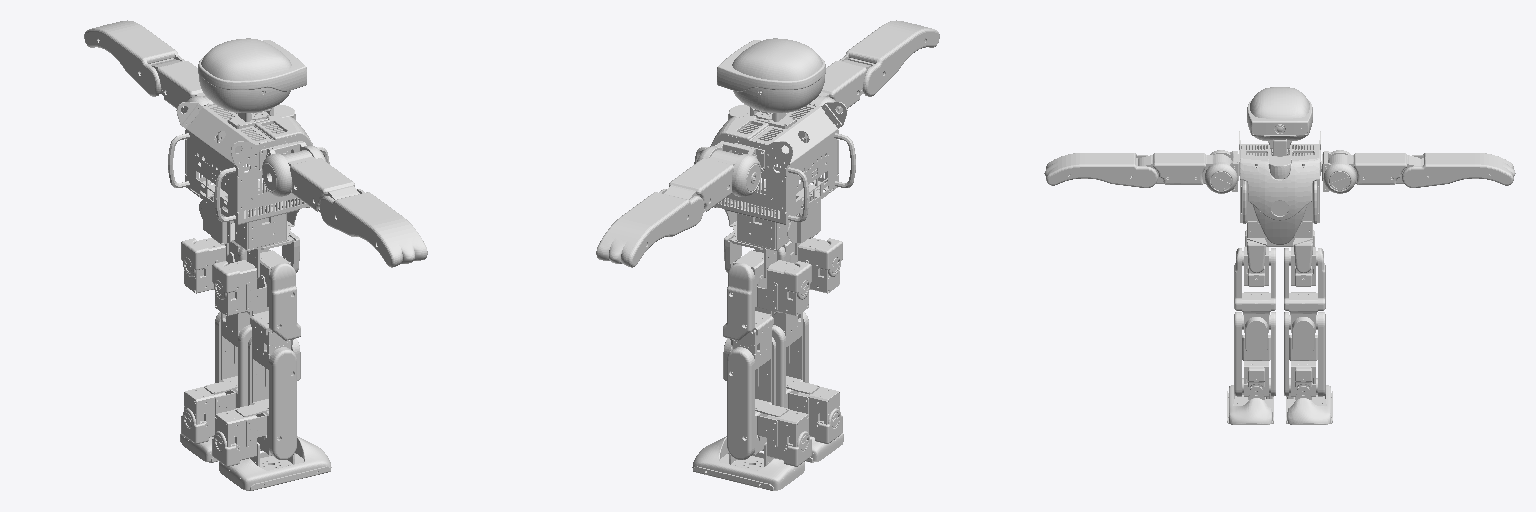
URDF robot description (muriqui):
<?xml version="1.0" ?>
<!-- =================================================================================== -->
<!-- |    This document was autogenerated by xacro from muriqui.urdf.xacro             | -->
<!-- |    EDITING THIS FILE BY HAND IS NOT RECOMMENDED                                 | -->
<!-- =================================================================================== -->
<robot name="muriqui">
  <!-- <xacro:include filename="$(find muriqui_description)/urdf/ros2_control/muriqui_right_arm.ros2_control.xacro"/>
  <xacro:include filename="$(find muriqui_description)/urdf/ros2_control/muriqui_right_leg.ros2_control.xacro"/>
  <xacro:include filename="$(find muriqui_description)/urdf/ros2_control/muriqui_left_arm.ros2_control.xacro"/>
  <xacro:include filename="$(find muriqui_description)/urdf/ros2_control/muriqui_left_leg.ros2_control.xacro"/>
  <xacro:include filename="$(find muriqui_description)/urdf/ros2_control/muriqui_neck.ros2_control.xacro"/>
  <xacro:include filename="$(find muriqui_description)/urdf/ros2_control/muriqui.gazebo_ros2_control.xacro"/> -->
  <material name="white">
    <color rgba="0.9 0.9 0.9 1.0"/>
  </material>
  <material name="black">
    <color rgba="0.1 0.1 0.1 1"/>
  </material>
  <material name="red">
    <color rgba="0.8984375 0.0 0.0703125 1"/>
  </material>
  <material name="light_red">
    <color rgba="0.9 0.5 0.5 1"/>
  </material>
  <material name="green">
    <color rgba="0.0 0.9 0.0 1"/>
  </material>
  <material name="light_green">
    <color rgba="0.5 0.9 0.5 1"/>
  </material>
  <material name="blue">
    <color rgba="0.0 0.0 0.9 1"/>
  </material>
  <material name="light_blue">
    <color rgba="0.5 0.5 0.9 1"/>
  </material>
  <material name="yellow">
    <color rgba="1.0 0.9 0.0 1"/>
  </material>
  <material name="cyan">
    <color rgba="0.0 0.5 0.9 1"/>
  </material>
  <material name="purple">
    <color rgba="0.9 0.0 0.9 1"/>
  </material>
  <link name="Body">
    <visual>
      <geometry>
        <mesh filename="package://muriqui_description/meshes/visual/Body.stl" scale="1.0 1.0 1.0"/>
      </geometry>
      <material name="white"/>
    </visual>
    <collision>
      <origin rpy="0 0 0" xyz="-0.01 0.0 0.08"/>
      <geometry>
        <box size="0.17 0.14 0.16"/>
      </geometry>
    </collision>
    <inertial>
      <mass value="1.625504"/>
      <origin rpy="0 0 0" xyz="-9.015e-03 0.365e-03 75.594e-03"/>
      <inertia ixx="6918802.193e-09" ixy="7360.263e-09" ixz="-135071.914e-09" iyy="6123383.515e-09" iyz="9644.33e-09" izz="5209478.932e-09"/>
    </inertial>
  </link>
  <joint name="neck_joint_1" type="revolute">
    <parent link="Body"/>
    <child link="Neck1"/>
    <origin rpy="0 0 0" xyz="0 0 0.16025"/>
    <limit effort="3.0" lower="-2.792526803190927" upper="2.792526803190927" velocity="4.81712"/>
    <axis xyz="0 0 1"/>
    <dynamics damping="1.0e-6" friction="0.8"/>
  </joint>
  <link name="Neck1">
    <visual>
      <geometry>
        <mesh filename="package://muriqui_description/meshes/visual/Neck1.stl" scale="1.0 1.0 1.0"/>
      </geometry>
      <material name="white"/>
    </visual>
    <collision>
      <origin rpy="0 0 0" xyz="0.0 0.0 0.025"/>
      <geometry>
        <box size="0.04 0.04 0.065"/>
      </geometry>
    </collision>
    <inertial>
      <mass value="0.102279"/>
      <origin rpy="0 0 0" xyz="0.016e-03 -0.278e-03 29.456e-03"/>
      <inertia ixx="35933.534e-09" ixy="-0.465e-09" ixz="51.624e-09" iyy="36549.566e-09" iyz="92.528e-09" izz="19716.616e-09"/>
    </inertial>
  </link>
  <joint name="neck_joint_2" type="revolute">
    <parent link="Neck1"/>
    <child link="Head"/>
    <origin rpy="0 0 0" xyz="0 0 0.022"/>
    <limit effort="3.0" lower="-0.8726646259971648" upper="0.5235987755982988" velocity="4.81712"/>
    <axis xyz="0 -1 0"/>
    <dynamics damping="1.0e-6" friction="0.8"/>
  </joint>
  <link name="Head">
    <visual>
      <origin rpy="0 0 0" xyz="0.0 0.0 0.0"/>
      <geometry>
        <mesh filename="package://muriqui_description/meshes/visual/Head.stl" scale="1.0 1.0 1.0"/>
      </geometry>
      <material name="white"/>
    </visual>
    <collision>
      <origin rpy="0 0 0" xyz="-0.01 0.0 0.04"/>
      <geometry>
        <box size="0.12 0.11 0.07"/>
      </geometry>
    </collision>
    <inertial>
      <mass value="0.193963"/>
      <origin rpy="0 0 0" xyz="-5.895e-03 0.909e-03 41.092e-03"/>
      <inertia ixx="279832.497e-09" ixy="-4847.055e-09" ixz="-2963.9e-09" iyy="272460.207e-09" iyz="38.305e-09" izz="377440.707e-09"/>
    </inertial>
  </link>
  <joint name="r_arm_joint1" type="revolute">
    <parent link="Body"/>
    <child link="Arm_R_Link1"/>
    <origin rpy="0 0 0" xyz="0 -0.072 0.132"/>
    <limit effort="3.0" lower="-2.792526803190927" upper="2.792526803190927" velocity="4.81712"/>
    <axis xyz="0 -1 0"/>
    <dynamics damping="1.0e-6" friction="0.8"/>
  </joint>
  <link name="Arm_R_Link1">
    <visual>
      <origin rpy="0 0 0" xyz="0.0 0.0 0.0"/>
      <geometry>
        <mesh filename="package://muriqui_description/meshes/visual/Arm_R_Link1.stl" scale="1.0 1.0 1.0"/>
      </geometry>
      <material name="white"/>
    </visual>
    <collision>
      <origin rpy="0 1.570795 0" xyz="0.0 -0.026 -0.01"/>
      <geometry>
        <cylinder length="0.075" radius="0.03"/>
      </geometry>
    </collision>
    <inertial>
      <mass value="0.065122"/>
      <origin rpy="0 0 0" xyz="-0.298e-03 -17.94e-03 -9.028e-03"/>
      <inertia ixx="30034.433e-09" ixy="-282.277e-09" ixz="-63.454e-09" iyy="50409.932e-09" iyz="-1569.783e-09" izz="53328.994e-09"/>
    </inertial>
  </link>
  <joint name="r_arm_joint2" type="revolute">
    <parent link="Arm_R_Link1"/>
    <child link="Arm_R_Link2"/>
    <origin rpy="0 0 0" xyz="0 -0.031 -0.0105"/>
    <limit effort="3.0" lower="-1.3962634015954636" upper="1.7453292519943295" velocity="4.81712"/>
    <axis xyz="1 0 0"/>
    <dynamics damping="1.0e-6" friction="0.8"/>
  </joint>
  <link name="Arm_R_Link2">
    <visual>
      <origin rpy="0 0 0" xyz="0.0 0.0 0.0"/>
      <geometry>
        <mesh filename="package://muriqui_description/meshes/visual/Arm_R_Link2.stl" scale="1.0 1.0 1.0"/>
      </geometry>
      <material name="white"/>
    </visual>
    <collision>
      <origin rpy="0 0 0" xyz="0.0 -0.07 0.005"/>
      <geometry>
        <box size="0.045 0.14 0.04"/>
      </geometry>
    </collision>
    <inertial>
      <mass value="0.258916"/>
      <origin rpy="0 0 0" xyz="0.221e-03 -60.857e-03 3.126e-03"/>
      <inertia ixx="622556.932e-09" ixy="84.223e-09" ixz="173.328e-09" iyy="68237.076e-09" iyz="-976.913e-09" izz="634784.646e-09"/>
    </inertial>
  </link>
  <joint name="r_arm_joint3" type="revolute">
    <parent link="Arm_R_Link2"/>
    <child link="Arm_R_Link3"/>
    <origin rpy="0 0 0" xyz="0 -0.1245 0"/>
    <limit effort="3.0" lower="-0.8726646259971648" upper="2.0943951023931953" velocity="4.81712"/>
    <axis xyz="1 0 0"/>
    <dynamics damping="1.0e-6" friction="0.8"/>
  </joint>
  <link name="Arm_R_Link3">
    <visual>
      <origin rpy="0 0 0" xyz="0.0 0.0 0.0"/>
      <geometry>
        <mesh filename="package://muriqui_description/meshes/visual/Arm_R_Link3.stl" scale="1.0 1.0 1.0"/>
      </geometry>
      <material name="white"/>
    </visual>
    <collision>
      <origin rpy="0 0 0" xyz="0.0 -0.095 0.01"/>
      <geometry>
        <box size="0.055 0.15 0.02"/>
      </geometry>
    </collision>
    <inertial>
      <mass value="0.141676"/>
      <origin rpy="0 0 0" xyz="0e-03 -81.732e-03 8.708e-03"/>
      <inertia ixx="368789.704e-09" ixy="-1.008e-09" ixz="-2.435e-09" iyy="59577.36e-09" iyz="-3488.399e-09" izz="402707.85e-09"/>
    </inertial>
  </link>
  <joint name="l_arm_joint1" type="revolute">
    <parent link="Body"/>
    <child link="Arm_L_Link1"/>
    <origin rpy="0 0 0" xyz="0 0.072 0.132"/>
    <limit effort="3.0" lower="-2.792526803190927" upper="2.792526803190927" velocity="4.81712"/>
    <axis xyz="0 1 0"/>
    <dynamics damping="1.0e-6" friction="0.8"/>
  </joint>
  <link name="Arm_L_Link1">
    <visual>
      <origin rpy="0 0 0" xyz="0.0 0.0 0.0"/>
      <geometry>
        <mesh filename="package://muriqui_description/meshes/visual/Arm_L_Link1.stl" scale="1.0 1.0 1.0"/>
      </geometry>
      <material name="white"/>
    </visual>
    <collision>
      <origin rpy="0 1.570795 0" xyz="0.0 0.026 -0.01"/>
      <geometry>
        <cylinder length="0.075" radius="0.03"/>
      </geometry>
    </collision>
    <inertial>
      <mass value="0.065122"/>
      <origin rpy="0 0 0" xyz="-0.33e-03 19.939e-03 -9.027e-03"/>
      <inertia ixx="30033.798e-09" ixy="293.152e-09" ixz="-68.135e-09" iyy="50512.623e-09" iyz="1568.854e-09" izz="53431.647e-09"/>
    </inertial>
  </link>
  <joint name="l_arm_joint2" type="revolute">
    <parent link="Arm_L_Link1"/>
    <child link="Arm_L_Link2"/>
    <origin rpy="0 0 0" xyz="0 0.031 -0.0105"/>
    <limit effort="3.0" lower="-1.7453292519943295" upper="1.3962634015954636" velocity="4.81712"/>
    <axis xyz="1 0 0"/>
    <dynamics damping="1.0e-6" friction="0.8"/>
  </joint>
  <link name="Arm_L_Link2">
    <visual>
      <origin rpy="0 0 0" xyz="0.0 0.0 0.0"/>
      <geometry>
        <mesh filename="package://muriqui_description/meshes/visual/Arm_L_Link2.stl" scale="1.0 1.0 1.0"/>
      </geometry>
      <material name="white"/>
    </visual>
    <collision>
      <origin rpy="0 0 0" xyz="0.0 0.07 0.005"/>
      <geometry>
        <box size="0.045 0.14 0.04"/>
      </geometry>
    </collision>
    <inertial>
      <mass value="0.258916"/>
      <origin rpy="0 0 0" xyz="0.218e-03 60.857e-03 3.126e-03"/>
      <inertia ixx="622556.932e-09" ixy="-73.955e-09" ixz="181.638e-09" iyy="68237.355e-09" iyz="976.913e-09" izz="634784.925e-09"/>
    </inertial>
  </link>
  <joint name="l_arm_joint3" type="revolute">
    <parent link="Arm_L_Link2"/>
    <child link="Arm_L_Link3"/>
    <origin rpy="0 0 0" xyz="0 0.1245 0"/>
    <limit effort="3.0" lower="-2.0943951023931953" upper="0.8726646259971648" velocity="4.81712"/>
    <axis xyz="1 0 0"/>
    <dynamics damping="1.0e-6" friction="0.8"/>
  </joint>
  <link name="Arm_L_Link3">
    <visual>
      <origin rpy="0 0 0" xyz="0.0 0.0 0.0"/>
      <geometry>
        <mesh filename="package://muriqui_description/meshes/visual/Arm_L_Link3.stl" scale="1.0 1.0 1.0"/>
      </geometry>
      <material name="white"/>
    </visual>
    <collision>
      <origin rpy="0 0 0" xyz="0.0 0.095 0.01"/>
      <geometry>
        <box size="0.055 0.15 0.02"/>
      </geometry>
    </collision>
    <inertial>
      <mass value="0.141676"/>
      <origin rpy="0 0 0" xyz="0e-03 81.732e-03 8.708e-03"/>
      <inertia ixx="368789.704e-09" ixy="-1.008e-09" ixz="2.435e-09" iyy="59577.36e-09" iyz="3488.399e-09" izz="402707.85e-09"/>
    </inertial>
  </link>
  <joint name="r_leg_joint1" type="revolute">
    <parent link="Body"/>
    <child link="Leg_R_Link1"/>
    <origin rpy="0 0 0" xyz="0 -0.04 0"/>
    <limit effort="8.6" lower="-1.5707963267948966" upper="0.5235987755982988" velocity="3.1416"/>
    <axis xyz="0 0 -1"/>
    <dynamics damping="1.0e-6" friction="0.8"/>
  </joint>
  <link name="Leg_R_Link1">
    <visual>
      <origin rpy="0 0 0" xyz="0.0 0.0 0.0"/>
      <geometry>
        <mesh filename="package://muriqui_description/meshes/visual/Leg_R_Link1.stl" scale="1.0 1.0 1.0"/>
      </geometry>
      <material name="white"/>
    </visual>
    <collision>
      <origin rpy="0 0 0" xyz="0.002 0.0 -0.025"/>
      <geometry>
        <box size="0.06 0.03 0.05"/>
      </geometry>
    </collision>
    <inertial>
      <mass value="0.048497"/>
      <origin rpy="0 0 0" xyz="5.905e-03 0e-03 -18.262e-03"/>
      <inertia ixx="16405.834e-09" ixy="0e-09" ixz="4141.222e-09" iyy="38843.125e-09" iyz="0e-09" izz="29185.933e-09"/>
    </inertial>
  </link>
  <joint name="r_leg_joint2" type="revolute">
    <parent link="Leg_R_Link1"/>
    <child link="Leg_R_Link2"/>
    <origin rpy="0 0 0" xyz="0 0 -0.041"/>
    <limit effort="8.6" lower="-1.5707963267948966" upper="1.5707963267948966" velocity="3.1416"/>
    <axis xyz="1 0 0"/>
    <dynamics damping="1.0e-6" friction="0.8"/>
  </joint>
  <link name="Leg_R_Link2">
    <visual>
      <origin rpy="0 0 0" xyz="0.0 0.0 0.0"/>
      <geometry>
        <mesh filename="package://muriqui_description/meshes/visual/Leg_R_Link2.stl" scale="1.0 1.0 1.0"/>
      </geometry>
      <material name="white"/>
    </visual>
    <collision>
      <origin rpy="0 0 0" xyz="-0.025 0.0 -0.015"/>
      <geometry>
        <box size="0.11 0.045 0.06"/>
      </geometry>
    </collision>
    <inertial>
      <mass value="0.397822"/>
      <origin rpy="0 0 0" xyz="-25.224e-03 0.251e-03 -15.933e-03"/>
      <inertia ixx="181897.662e-09" ixy="-2093.241e-09" ixz="6275.578e-09" iyy="465378.803e-09" iyz="-161.82e-09" izz="392087.19e-09"/>
    </inertial>
  </link>
  <joint name="r_leg_joint3" type="revolute">
    <parent link="Leg_R_Link2"/>
    <child link="Leg_R_Link3"/>
    <origin rpy="0 0 0" xyz="0 0 0"/>
    <limit effort="8.6" lower="-1.9198621771937625" upper="0.6108652381980153" velocity="3.1416"/>
    <axis xyz="0 1 0"/>
    <dynamics damping="1.0e-6" friction="0.8"/>
  </joint>
  <link name="Leg_R_Link3">
    <visual>
      <origin rpy="0 0 0" xyz="0.0 0.0 0.0"/>
      <geometry>
        <mesh filename="package://muriqui_description/meshes/visual/Leg_R_Link3.stl" scale="1.0 1.0 1.0"/>
      </geometry>
      <material name="white"/>
    </visual>
    <collision>
      <origin rpy="0 0 0" xyz="0.0 0.0 -0.058"/>
      <geometry>
        <box size="0.04 0.07 0.15"/>
      </geometry>
    </collision>
    <inertial>
      <mass value="0.274338"/>
      <origin rpy="0 0 0" xyz="0.658e-03 0.243e-03 -84.021e-03"/>
      <inertia ixx="436930.998e-09" ixy="255.67e-09" ixz="-778.911e-09" iyy="374092.822e-09" iyz="2966.089e-09" izz="125447.057e-09"/>
    </inertial>
  </link>
  <joint name="r_leg_joint4" type="revolute">
    <parent link="Leg_R_Link3"/>
    <child link="Leg_R_Link4"/>
    <origin rpy="0 0 0" xyz="0 0 -0.12"/>
    <limit effort="8.6" lower="0.0" upper="1.5707963267948966" velocity="3.1416"/>
    <axis xyz="0 1 0"/>
    <dynamics damping="1.0e-6" friction="0.8"/>
  </joint>
  <link name="Leg_R_Link4">
    <visual>
      <origin rpy="0 0 0" xyz="0.0 0.0 0.0"/>
      <geometry>
        <mesh filename="package://muriqui_description/meshes/visual/Leg_R_Link4.stl" scale="1.0 1.0 1.0"/>
      </geometry>
      <material name="white"/>
    </visual>
    <collision>
      <origin rpy="0 0 0" xyz="0.008 -0.002 -0.062"/>
      <geometry>
        <box size="0.05 0.07 0.15"/>
      </geometry>
    </collision>
    <inertial>
      <mass value="0.153927"/>
      <origin rpy="0 0 0" xyz="4.585e-03 -0.084e-03 -53.249e-03"/>
      <inertia ixx="326697.461e-09" ixy="-59.277e-09" ixz="-17325.685e-09" iyy="244277.336e-09" iyz="28.103e-09" izz="126095.571e-09"/>
    </inertial>
  </link>
  <joint name="r_leg_joint5" type="revolute">
    <parent link="Leg_R_Link4"/>
    <child link="Leg_R_Link5"/>
    <origin rpy="0 0 0" xyz="0 0 -0.12"/>
    <limit effort="8.6" lower="-1.4835298641951802" upper="0.7853981633974483" velocity="3.1416"/>
    <axis xyz="0 1 0"/>
    <dynamics damping="1.0e-6" friction="0.8"/>
  </joint>
  <link name="Leg_R_Link5">
    <visual>
      <origin rpy="0 0 0" xyz="0.0 0.0 0.0"/>
      <geometry>
        <mesh filename="package://muriqui_description/meshes/visual/Leg_R_Link5.stl" scale="1.0 1.0 1.0"/>
      </geometry>
      <material name="white"/>
    </visual>
    <collision>
      <origin rpy="0 0 0" xyz="-0.037 0.0 0.015"/>
      <geometry>
        <box size="0.08 0.035 0.06"/>
      </geometry>
    </collision>
    <inertial>
      <mass value="0.397822"/>
      <origin rpy="0 0 0" xyz="-25.224e-03 0.251e-03 15.933e-03"/>
      <inertia ixx="181897.662e-09" ixy="-2093.241e-09" ixz="-6275.578e-09" iyy="465378.803e-09" iyz="161.82e-09" izz="392087.19e-09"/>
    </inertial>
  </link>
  <joint name="r_leg_joint6" type="revolute">
    <parent link="Leg_R_Link5"/>
    <child link="Leg_R_Link6"/>
    <origin rpy="0 0 0" xyz="0 0 0"/>
    <limit effort="8.6" lower="-0.7853981633974483" upper="1.5707963267948966" velocity="3.1416"/>
    <axis xyz="1 0 0"/>
    <dynamics damping="1.0e-6" friction="0.8"/>
  </joint>
  <link name="Leg_R_Link6">
    <visual>
      <origin rpy="0 0 0" xyz="0.0 0.0 0.0"/>
      <geometry>
        <mesh filename="package://muriqui_description/meshes/visual/Leg_R_Link6.stl" scale="1.0 1.0 1.0"/>
      </geometry>
      <material name="white"/>
    </visual>
    <collision>
      <origin rpy="0 0 0" xyz="0.0 -0.01 -0.033"/>
      <geometry>
        <box size="0.13 0.08 0.02"/>
      </geometry>
    </collision>
    <inertial>
      <mass value="0.147158"/>
      <origin rpy="0 0 0" xyz="1.772e-03 -7.685e-03 -33.14e-03"/>
      <inertia ixx="94204.757e-09" ixy="-1939.453e-09" ixz="-5879.873e-09" iyy="234577.248e-09" iyz="-5043.515e-09" izz="284475.78e-09"/>
    </inertial>
  </link>
  <joint name="l_leg_joint1" type="revolute">
    <parent link="Body"/>
    <child link="Leg_L_Link1"/>
    <origin rpy="0 0 0" xyz="0 0.04 0"/>
    <limit effort="8.6" lower="-0.5235987755982988" upper="1.5707963267948966" velocity="3.1416"/>
    <axis xyz="0 0 -1"/>
    <dynamics damping="1.0e-6" friction="0.8"/>
  </joint>
  <link name="Leg_L_Link1">
    <visual>
      <origin rpy="0 0 0" xyz="0.0 0.0 0.0"/>
      <geometry>
        <mesh filename="package://muriqui_description/meshes/visual/Leg_L_Link1.stl" scale="1.0 1.0 1.0"/>
      </geometry>
      <material name="white"/>
    </visual>
    <collision>
      <origin rpy="0 0 0" xyz="0.002 0.0 -0.025"/>
      <geometry>
        <box size="0.06 0.03 0.05"/>
      </geometry>
    </collision>
    <inertial>
      <mass value="0.048497"/>
      <origin rpy="0 0 0" xyz="5.958e-03 0e-03 -18.262e-03"/>
      <inertia ixx="16405.834e-09" ixy="0e-09" ixz="4199.958e-09" iyy="38955.876e-09" iyz="0e-09" izz="29298.684e-09"/>
    </inertial>
  </link>
  <joint name="l_leg_joint2" type="revolute">
    <parent link="Leg_L_Link1"/>
    <child link="Leg_L_Link2"/>
    <origin rpy="0 0 0" xyz="0 0 -0.041"/>
    <limit effort="8.6" lower="-1.5707963267948966" upper="1.5707963267948966" velocity="3.1416"/>
    <axis xyz="1 0 0"/>
    <dynamics damping="1.0e-6" friction="0.8"/>
  </joint>
  <link name="Leg_L_Link2">
    <visual>
      <origin rpy="0 0 0" xyz="0.0 0.0 0.0"/>
      <geometry>
        <mesh filename="package://muriqui_description/meshes/visual/Leg_L_Link2.stl" scale="1.0 1.0 1.0"/>
      </geometry>
      <material name="white"/>
    </visual>
    <collision>
      <origin rpy="0 0 0" xyz="-0.025 0.0 -0.015"/>
      <geometry>
        <box size="0.11 0.045 0.06"/>
      </geometry>
    </collision>
    <inertial>
      <mass value="0.397822"/>
      <origin rpy="0 0 0" xyz="-25.224e-03 -0.17e-03 -15.933e-03"/>
      <inertia ixx="181911.335e-09" ixy="2133.446e-09" ixz="6272.806e-09" iyy="465395.534e-09" iyz="657.597e-09" izz="392117.594e-09"/>
    </inertial>
  </link>
  <joint name="l_leg_joint3" type="revolute">
    <parent link="Leg_L_Link2"/>
    <child link="Leg_L_Link3"/>
    <origin rpy="0 0 0" xyz="0 0 0"/>
    <limit effort="8.6" lower="-0.6108652381980153" upper="1.9198621771937625" velocity="3.1416"/>
    <axis xyz="0 -1 0"/>
    <dynamics damping="1.0e-6" friction="0.8"/>
  </joint>
  <link name="Leg_L_Link3">
    <visual>
      <origin rpy="0 0 0" xyz="0.0 0.0 0.0"/>
      <geometry>
        <mesh filename="package://muriqui_description/meshes/visual/Leg_L_Link3.stl" scale="1.0 1.0 1.0"/>
      </geometry>
      <material name="white"/>
    </visual>
    <collision>
      <origin rpy="0 0 0" xyz="0.0 0.0 -0.058"/>
      <geometry>
        <box size="0.04 0.07 0.15"/>
      </geometry>
    </collision>
    <inertial>
      <mass value="0.274338"/>
      <origin rpy="0 0 0" xyz="0.658e-03 -0.146e-03 -84.021e-03"/>
      <inertia ixx="436940.932e-09" ixy="-238.126e-09" ixz="-778.852e-09" iyy="374092.416e-09" iyz="-1622.429e-09" izz="125457.353e-09"/>
    </inertial>
  </link>
  <joint name="l_leg_joint4" type="revolute">
    <parent link="Leg_L_Link3"/>
    <child link="Leg_L_Link4"/>
    <origin rpy="0 0 0" xyz="0 0 -0.12"/>
    <limit effort="8.6" lower="-1.5707963267948966" upper="0.0" velocity="3.1416"/>
    <axis xyz="0 -1 0"/>
    <dynamics damping="1.0e-6" friction="0.8"/>
  </joint>
  <link name="Leg_L_Link4">
    <visual>
      <origin rpy="0 0 0" xyz="0.0 0.0 0.0"/>
      <geometry>
        <mesh filename="package://muriqui_description/meshes/visual/Leg_L_Link4.stl" scale="1.0 1.0 1.0"/>
      </geometry>
      <material name="white"/>
    </visual>
    <collision>
      <origin rpy="0 0 0" xyz="0.008 -0.002 -0.062"/>
      <geometry>
        <box size="0.05 0.07 0.15"/>
      </geometry>
    </collision>
    <inertial>
      <mass value="0.143927"/>
      <origin rpy="0 0 0" xyz="4.904e-03 0.642e-03 -52.78e-03"/>
      <inertia ixx="295961.351e-09" ixy="453.229e-09" ixz="-16935.989e-09" iyy="222233.443e-09" iyz="782.643e-09" izz="114138.666e-09"/>
    </inertial>
  </link>
  <joint name="l_leg_joint5" type="revolute">
    <parent link="Leg_L_Link4"/>
    <child link="Leg_L_Link5"/>
    <origin rpy="0 0 0" xyz="0 0 -0.12"/>
    <limit effort="8.6" lower="-0.7853981633974483" upper="1.4835298641951802" velocity="3.1416"/>
    <axis xyz="0 -1 0"/>
    <dynamics damping="1.0e-6" friction="0.8"/>
  </joint>
  <link name="Leg_L_Link5">
    <visual>
      <origin rpy="0 0 0" xyz="0.0 0.0 0.0"/>
      <geometry>
        <mesh filename="package://muriqui_description/meshes/visual/Leg_L_Link5.stl" scale="1.0 1.0 1.0"/>
      </geometry>
      <material name="white"/>
    </visual>
    <collision>
      <origin rpy="0 0 0" xyz="-0.037 0.0 0.015"/>
      <geometry>
        <box size="0.08 0.035 0.06"/>
      </geometry>
    </collision>
    <inertial>
      <mass value="0.397822"/>
      <origin rpy="0 0 0" xyz="-25.245e-03 -0.17e-03 15.91e-03"/>
      <inertia ixx="181736.89e-09" ixy="2306.812e-09" ixz="-6259.807e-09" iyy="465312.61e-09" iyz="-461.366e-09" izz="392209.115e-09"/>
    </inertial>
  </link>
  <joint name="l_leg_joint6" type="revolute">
    <parent link="Leg_L_Link5"/>
    <child link="Leg_L_Link6"/>
    <origin rpy="0 0 0" xyz="0 0 0"/>
    <limit effort="8.6" lower="-1.5707963267948966" upper="0.7853981633974483" velocity="3.1416"/>
    <axis xyz="1 0 0"/>
    <dynamics damping="1.0e-6" friction="0.8"/>
  </joint>
  <link name="Leg_L_Link6">
    <visual>
      <origin rpy="0 0 0" xyz="0.0 0.0 0.0"/>
      <geometry>
        <mesh filename="package://muriqui_description/meshes/visual/Leg_L_Link6.stl" scale="1.0 1.0 1.0"/>
      </geometry>
      <material name="white"/>
    </visual>
    <collision>
      <origin rpy="0 0 0" xyz="0.0 -0.01 -0.033"/>
      <geometry>
        <box size="0.13 0.08 0.02"/>
      </geometry>
    </collision>
    <inertial>
      <mass value="0.146265"/>
      <origin rpy="0 0 0" xyz="1.606e-03 7.721e-03 -33.342e-03"/>
      <inertia ixx="93094.964e-09" ixy="1754.154e-09" ixz="-5067.973e-09" iyy="232884.335e-09" iyz="4803.576e-09" izz="283709.882e-09"/>
    </inertial>
  </link>
  <!-- <xacro:property name="COLOR_LINK_SENSORS" value="cyan"/>
  <xacro:muriqui_sensors/> -->
  <!-- <xacro:unless value="$(arg use_gazebo)" >
    <xacro:muriqui_right_arm_ros2_control_settings/>
    <xacro:muriqui_right_leg_ros2_control_settings/>

    <xacro:muriqui_left_arm_ros2_control_settings/>
    <xacro:muriqui_left_leg_ros2_control_settings/>

    <xacro:muriqui_neck_ros2_control_settings/>
  </xacro:unless>

  <xacro:if value="$(arg use_gazebo)" >
    <xacro:muriqui_gazebo_ros2_control_settings/>
    <xacro:muriqui_gazebo_sensors/>
  </xacro:if> -->
</robot>

--- Render facts (derived) ---
3 views of the same robot in one strip: view 1: azimuth 30°, elevation 25°; view 2: azimuth 150°, elevation 25°; view 3: azimuth 270°, elevation 25° (orthographic).
Robot: muriqui — 21 links, 20 joints (20 revolute); root link Body; default pose: all joints at 0.
Links seen in each view (by area): view 1: Body, Head, Arm_R_Link3, Leg_R_Link4, Arm_L_Link3, Leg_R_Link3, Leg_R_Link6, Leg_R_Link2, Leg_R_Link5, Arm_R_Link2, Leg_L_Link5, Leg_L_Link2 (+5 smaller); view 2: Body, Head, Arm_L_Link3, Leg_L_Link4, Arm_R_Link3, Leg_L_Link3, Leg_L_Link6, Leg_L_Link2, Leg_L_Link5, Arm_L_Link2, Leg_R_Link5, Leg_R_Link2 (+5 smaller); view 3: Body, Head, Arm_L_Link3, Arm_R_Link3, Leg_R_Link4, Leg_L_Link4, Arm_R_Link2, Arm_L_Link2, Leg_R_Link3, Leg_L_Link3, Leg_R_Link6, Leg_L_Link6 (+6 smaller).
Boxes of the visible links, x1,y1,x2,y2 form: Body: (168,102,329,251); Head: (198,38,306,112); Arm_R_Link3: (320,189,427,267); Leg_R_Link4: (248,337,300,459); Arm_L_Link3: (84,20,184,96); Leg_R_Link3: (248,249,300,369); Leg_R_Link6: (219,436,331,490); Leg_R_Link2: (212,250,290,315); Leg_R_Link5: (212,399,271,466); Arm_R_Link2: (283,150,359,211); Leg_L_Link5: (181,376,237,443); Leg_L_Link2: (181,238,240,293); Body: (694,102,855,250); Head: (717,38,825,112); Arm_L_Link3: (596,189,703,267); Leg_L_Link4: (723,337,775,459); Arm_R_Link3: (839,20,939,96); Leg_L_Link3: (723,249,775,369); Leg_L_Link6: (692,436,804,490); Leg_L_Link2: (733,250,811,315); Leg_L_Link5: (752,399,811,466); Arm_L_Link2: (664,150,740,211); Leg_R_Link5: (786,376,842,443); Leg_R_Link2: (783,238,842,293); Body: (1239,131,1321,246); Head: (1247,87,1312,142); Arm_L_Link3: (1402,153,1515,187); Arm_R_Link3: (1044,153,1157,187); Leg_R_Link4: (1234,312,1275,396); Leg_L_Link4: (1284,312,1325,396); Arm_R_Link2: (1138,153,1232,184); Arm_L_Link2: (1328,153,1421,184); Leg_R_Link3: (1234,248,1275,332); Leg_L_Link3: (1284,248,1325,332); Leg_R_Link6: (1227,385,1273,424); Leg_L_Link6: (1286,385,1332,424).
Bounding box of the posed robot: 0.171 × 0.8022 × 0.5848 m (x, y, z).
21 mesh visuals loaded from 21 distinct referenced files (21 binary STL).
